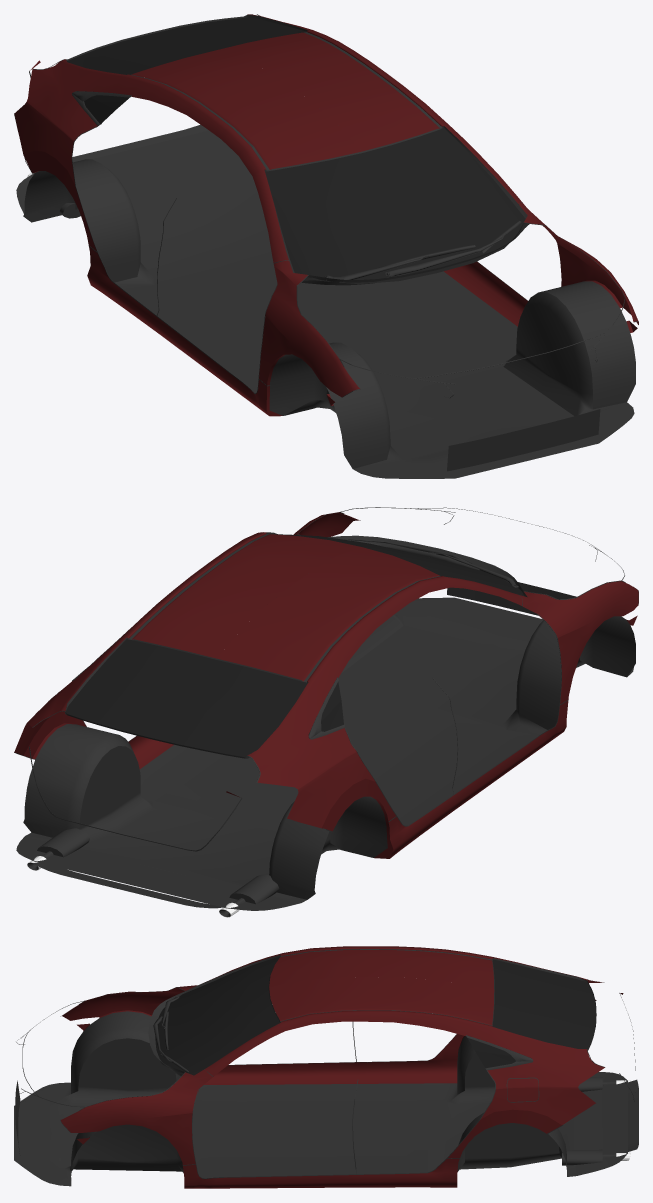
Rendered from Honda_Civic_chases.glb.
3 renders of one model, top to bottom at view 1: azimuth 30°, elevation 25°; view 2: azimuth 150°, elevation 25°; view 3: azimuth 270°, elevation 25°, orthographic. The views are drawn at different scales.
Parts seen in each view (by area): view 1: Mesh_Honda_Civic_Chases; view 2: Mesh_Honda_Civic_Chases; view 3: Mesh_Honda_Civic_Chases.
Boxes of the visible parts, bbox=[...] form: Mesh_Honda_Civic_Chases: bbox=[14, 14, 638, 478]; Mesh_Honda_Civic_Chases: bbox=[14, 507, 638, 917]; Mesh_Honda_Civic_Chases: bbox=[14, 946, 638, 1188].
Size of the model in its own units: 92.64 by 60.52 by 212.
